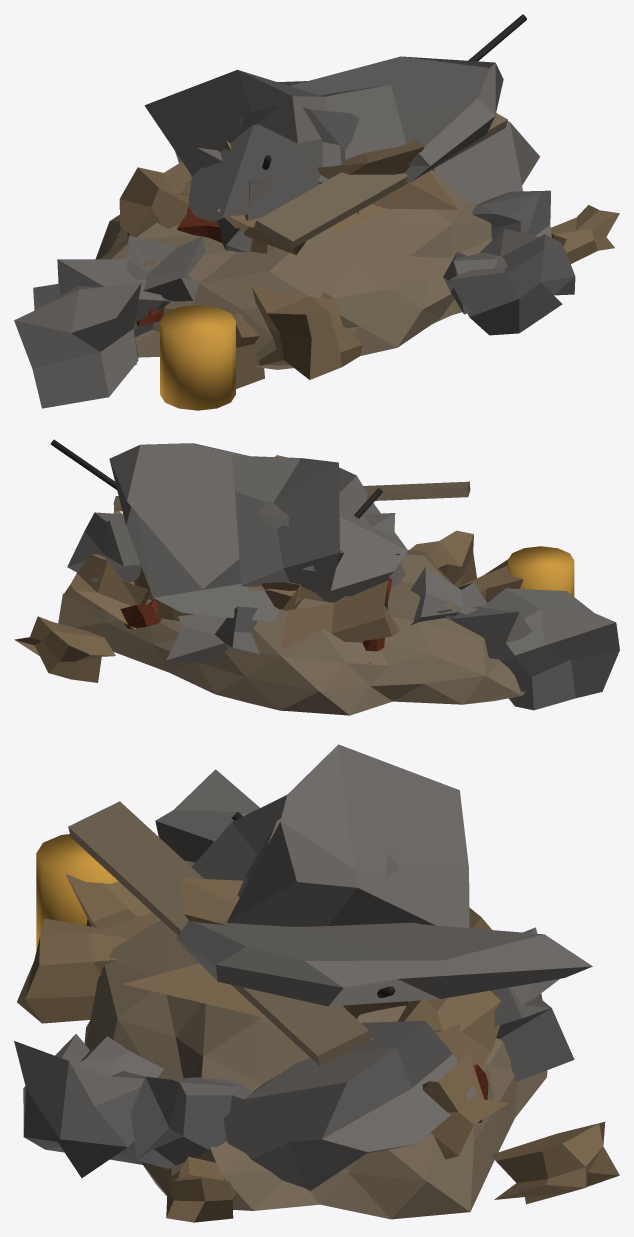
File: cover_rubble_9.glb
3 renders of one model, top to bottom at view 1: azimuth 30°, elevation 25°; view 2: azimuth 150°, elevation 25°; view 3: azimuth 270°, elevation 25°, orthographic. The views are drawn at different scales.
Parts seen in each view (by area): view 1: mound, lump_36, lump_18, slab, lump_23, bucket, lump_16, plank, lump_22, lump_1, lump_0, lump_24 (+9 smaller); view 2: mound, slab, lump_36, lump_18, lump_0, lump_7, lump_14, lump_22, lump_15, bucket, lump_24, lump_37 (+9 smaller); view 3: mound, lump_36, slab, lump_22, plank, lump_23, lump_16, lump_11, lump_7, lump_1, lump_14, lump_18 (+7 smaller).
Boxes of the visible parts, <box> form: mound: <box>95,170,491,369</box>; lump_36: <box>144,70,405,222</box>; lump_18: <box>14,282,141,408</box>; slab: <box>277,56,503,182</box>; lump_23: <box>449,228,575,335</box>; bucket: <box>160,305,235,410</box>; lump_16: <box>252,287,362,379</box>; plank: <box>253,113,507,249</box>; lump_22: <box>432,121,539,204</box>; lump_1: <box>317,139,458,232</box>; lump_0: <box>119,162,191,236</box>; lump_24: <box>126,235,205,301</box>; mound: <box>58,550,525,715</box>; slab: <box>109,443,279,622</box>; lump_36: <box>232,455,407,602</box>; lump_18: <box>482,588,619,710</box>; lump_0: <box>281,580,399,646</box>; lump_7: <box>14,616,115,682</box>; lump_14: <box>166,606,260,662</box>; lump_22: <box>67,512,141,582</box>; lump_15: <box>64,554,154,629</box>; bucket: <box>507,546,574,596</box>; lump_24: <box>410,567,486,625</box>; lump_37: <box>437,606,532,659</box>; mound: <box>84,920,547,1219</box>; lump_36: <box>192,744,469,927</box>; slab: <box>176,920,592,1006</box>; lump_22: <box>223,1020,476,1190</box>; plank: <box>68,801,371,1066</box>; lump_23: <box>14,1034,144,1177</box>; lump_16: <box>17,912,157,1023</box>; lump_11: <box>130,1076,253,1168</box>; lump_7: <box>491,1122,619,1204</box>; lump_1: <box>122,878,410,1018</box>; lump_14: <box>494,927,574,1082</box>; lump_18: <box>155,769,259,866</box>.
Size of the model in its own units: 2.69 by 1.09 by 1.81.
